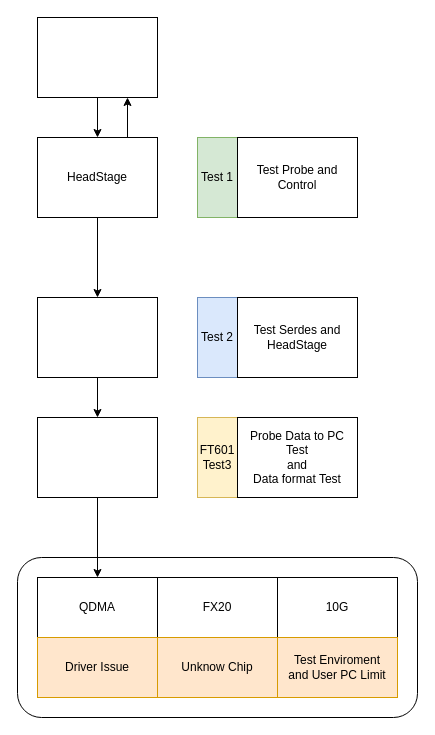
The diagram is 435 pixels wide and 735 high, and some of its shapes have lost their labels. The shapes that lost their labels are listed below. From the top down, each one's centre as x and y in pixels, then its label:
At [97,57]: "Probe".
At [97,337]: "SerDes".
At [97,457]: "FPGA".
